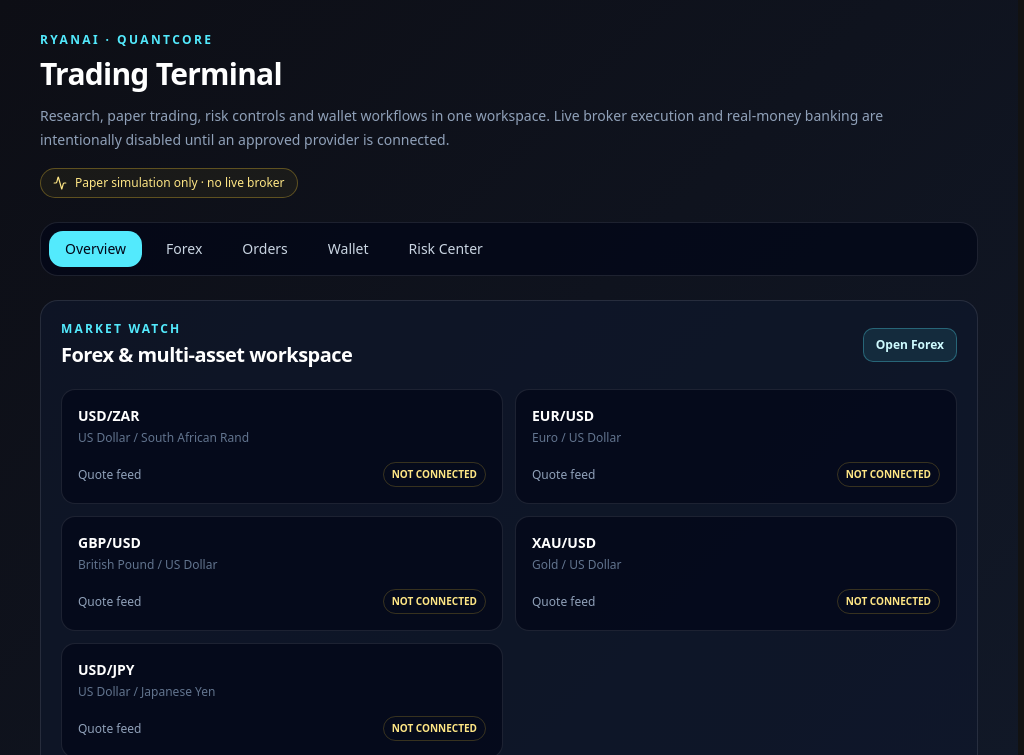
Test: Trading Terminal › opens the forex research view without implying live market data
What coordinates should you click on to do the following:
click the button "Forex"
I would click on:
 (184, 249)
Its box is x1=150 y1=231 x2=218 y2=267.
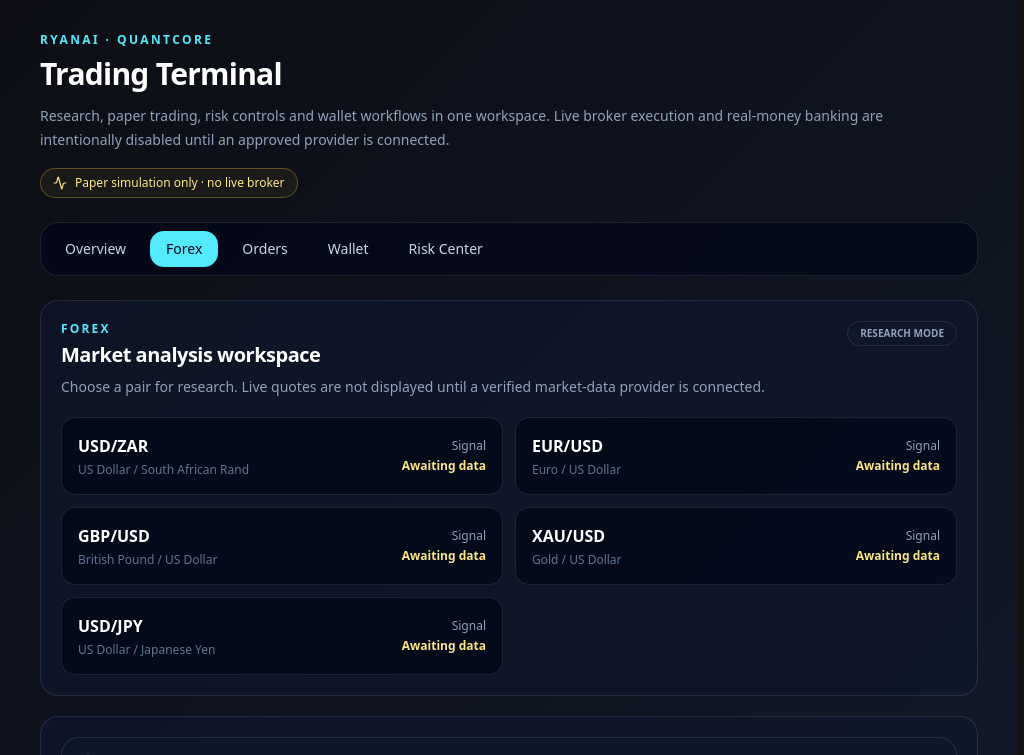
Now the text "Market analysis workspace" is shown, box x1=61 y1=341 x2=320 y2=368
Now the text "Research mode" is shown, box x1=847 y1=321 x2=957 y2=346
Now the text "Awaiting data" is shown, box x1=402 y1=458 x2=486 y2=474
